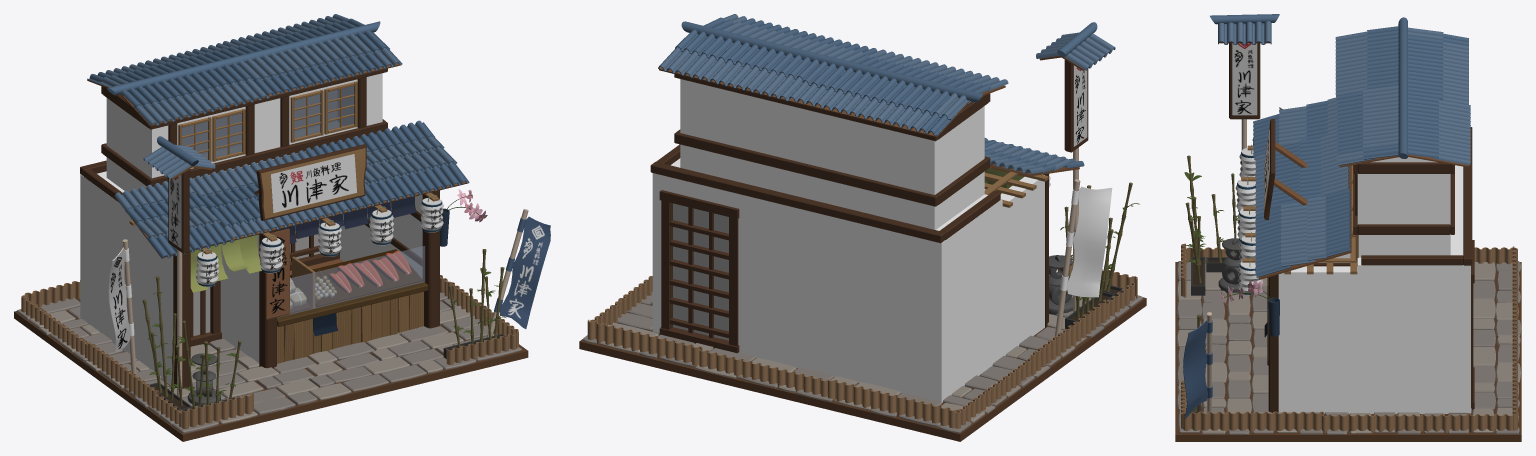
Rendered from japanese_restaurant.glb.
The picture shows the model from 3 angles, left to right: view 1: azimuth 30°, elevation 25°; view 2: azimuth 150°, elevation 25°; view 3: azimuth 270°, elevation 25°; orthographic projection. The views are drawn at different scales.
Parts seen in each view (by area): view 1: pCube52, pCube4, pCube1, pCube48, polySurface53, pCube112, pCube83, pCube154, pCube42, polySurface498, polySurface647, polySurface649 (+57 smaller); view 2: pCube52, pCube4, pCube83, pCube1, pCube62, polySurface535, polySurface260, polySurface653, polySurface655, pCube53, polySurface654, polySurface652 (+25 smaller); view 3: pCube52, pCube4, pCube1, pCube83, polySurface241, polySurface242, pCube62, polySurface653, polySurface647, polySurface655, polySurface649, polySurface654 (+62 smaller).
Boxes of the visible parts, x1=… form: pCube52: x1=80, y1=181, x2=422, y2=385; pCube4: x1=106, y1=73, x2=382, y2=192; pCube1: x1=14, y1=299, x2=528, y2=441; pCube48: x1=277, y1=246, x2=424, y2=317; polySurface53: x1=277, y1=291, x2=423, y2=363; pCube112: x1=173, y1=190, x2=439, y2=388; pCube83: x1=101, y1=68, x2=387, y2=186; pCube154: x1=270, y1=154, x2=356, y2=212; pCube42: x1=220, y1=234, x2=259, y2=362; polySurface498: x1=500, y1=216, x2=550, y2=328; polySurface647: x1=238, y1=33, x2=373, y2=81; polySurface649: x1=133, y1=78, x2=269, y2=125; pCube52: x1=652, y1=174, x2=1044, y2=402; pCube4: x1=680, y1=79, x2=984, y2=229; pCube83: x1=674, y1=74, x2=990, y2=206; pCube1: x1=579, y1=297, x2=1146, y2=441; pCube62: x1=650, y1=144, x2=1000, y2=243; polySurface535: x1=673, y1=203, x2=728, y2=340; polySurface260: x1=1067, y1=186, x2=1112, y2=297; polySurface653: x1=802, y1=61, x2=949, y2=115; polySurface655: x1=658, y1=47, x2=802, y2=101; pCube53: x1=652, y1=158, x2=1002, y2=250; polySurface654: x1=675, y1=29, x2=819, y2=80; polySurface652: x1=789, y1=81, x2=931, y2=131; pCube52: x1=1278, y1=266, x2=1470, y2=413; pCube4: x1=1357, y1=157, x2=1450, y2=257; pCube1: x1=1175, y1=262, x2=1521, y2=441; pCube83: x1=1353, y1=162, x2=1454, y2=234; polySurface241: x1=1183, y1=411, x2=1323, y2=432; polySurface242: x1=1321, y1=414, x2=1462, y2=432; pCube62: x1=1361, y1=127, x2=1472, y2=265; polySurface653: x1=1407, y1=35, x2=1443, y2=99; polySurface647: x1=1363, y1=85, x2=1398, y2=148; polySurface655: x1=1434, y1=100, x2=1470, y2=165; polySurface649: x1=1335, y1=31, x2=1367, y2=99; polySurface654: x1=1407, y1=94, x2=1439, y2=158.
Size of the model in its own units: 19.71 by 12.58 by 14.6.
Materials: 50 (6 with a texture image).
